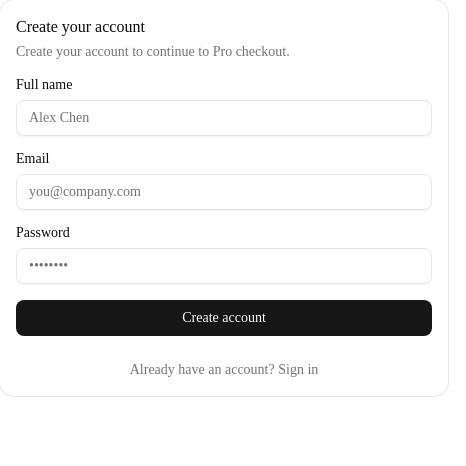
it: AuthForm › asks the user to confirm email before checkout when signup has no session
Type "Ada Lovelace" into the field labelled "Full name" at (224, 118), box [16,100,432,136]
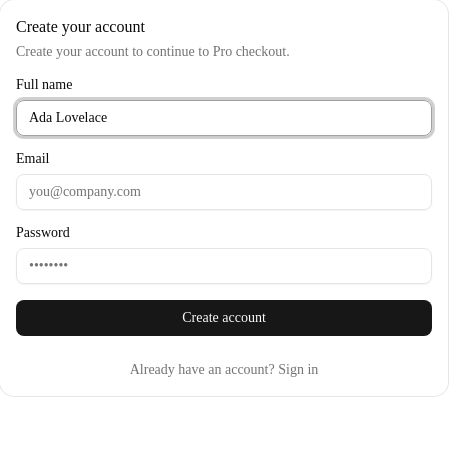
Type "ada@example.com" into the field labelled "Email" at (224, 192), box [16,174,432,210]
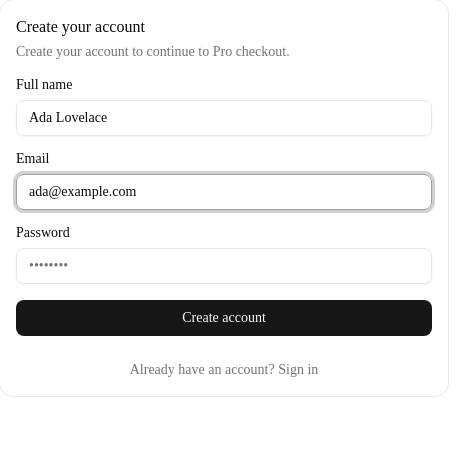
Type "password1" into the password field labelled "Password" at (224, 266), box [16,248,432,284]
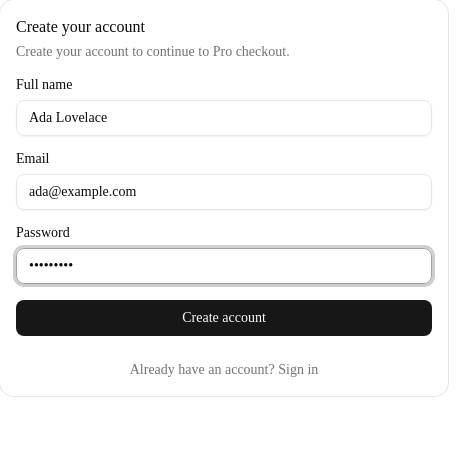
Click the button "Create account" at (224, 318), box [16,300,432,336]
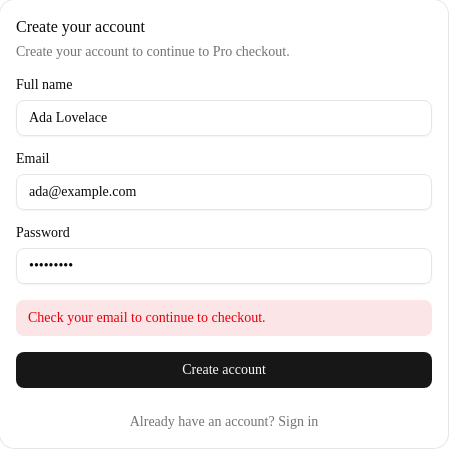
Check: the message reads "Check your email to continue to checkout.", box [28,310,266,325]
